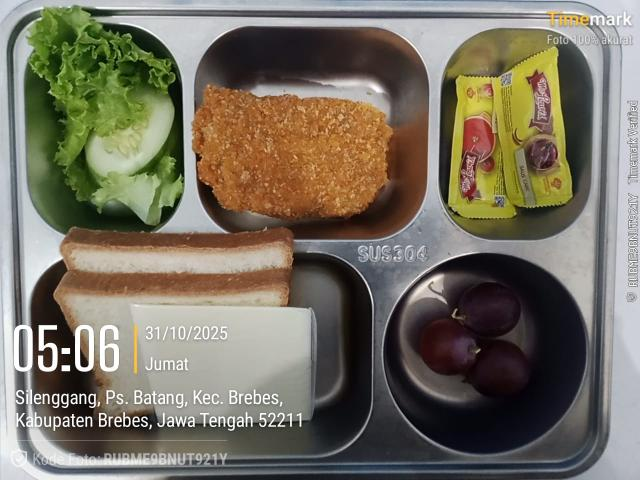ayam: (192, 84, 392, 220)
buah: (420, 282, 530, 396)
keju: (130, 304, 316, 426)
roti: (54, 228, 292, 350), (94, 358, 148, 400)
sayur: (28, 6, 183, 225)
